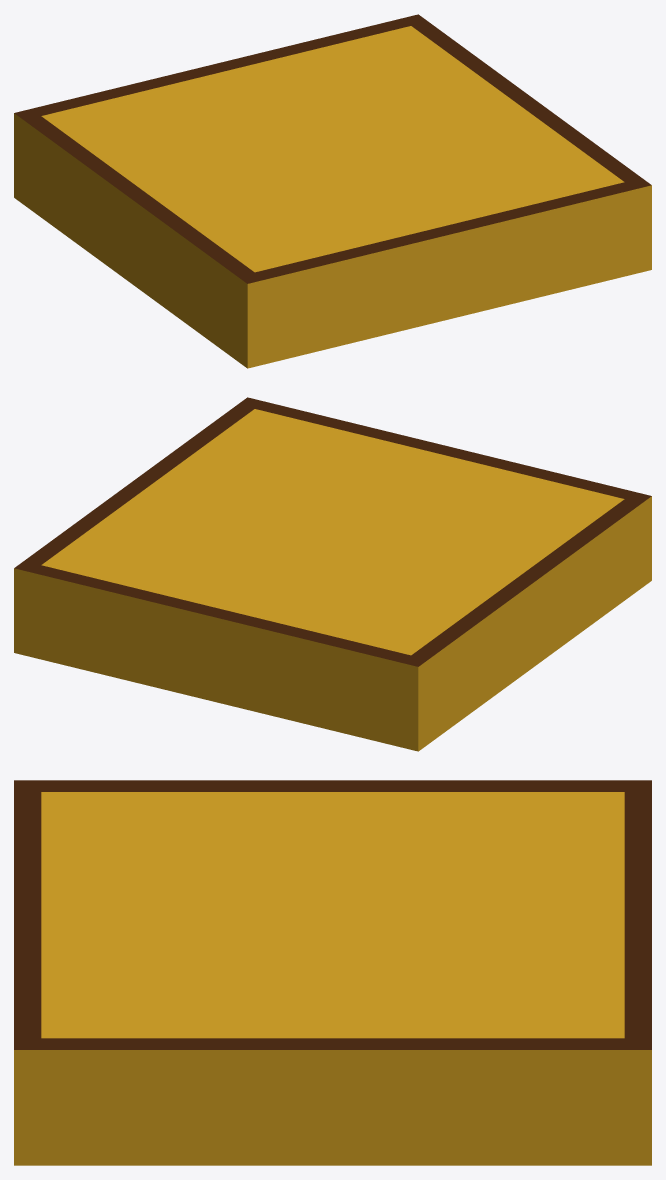
The model's file is tegla.FBX.
The picture shows the model from 3 angles, top to bottom: view 1: azimuth 30°, elevation 25°; view 2: azimuth 150°, elevation 25°; view 3: azimuth 270°, elevation 25°; orthographic projection. The views are drawn at different scales.
Parts seen in each view (by area): view 1: Box001; view 2: Box001; view 3: Box001.
Boxes of the visible parts, left/top/right/bottom form: Box001: left=14, top=14, right=651, bottom=368; Box001: left=14, top=397, right=651, bottom=751; Box001: left=14, top=780, right=651, bottom=1165.
Size of the model in its own units: 50 by 10 by 50.
